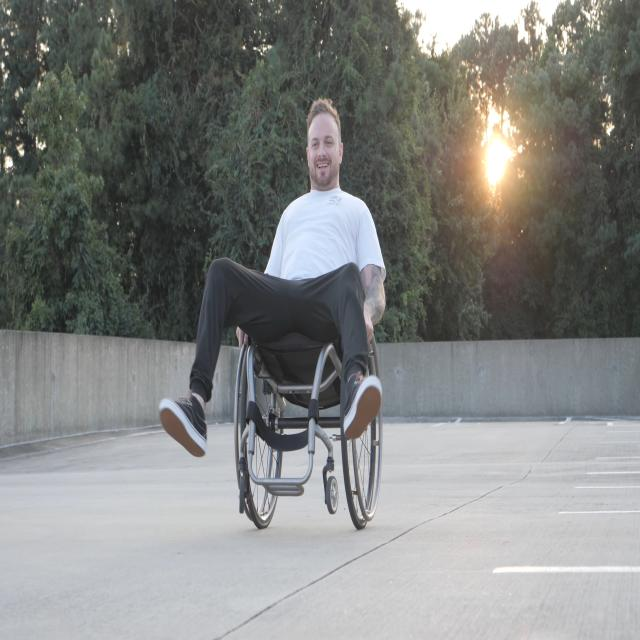wheelchairs: (224, 292, 391, 542)
